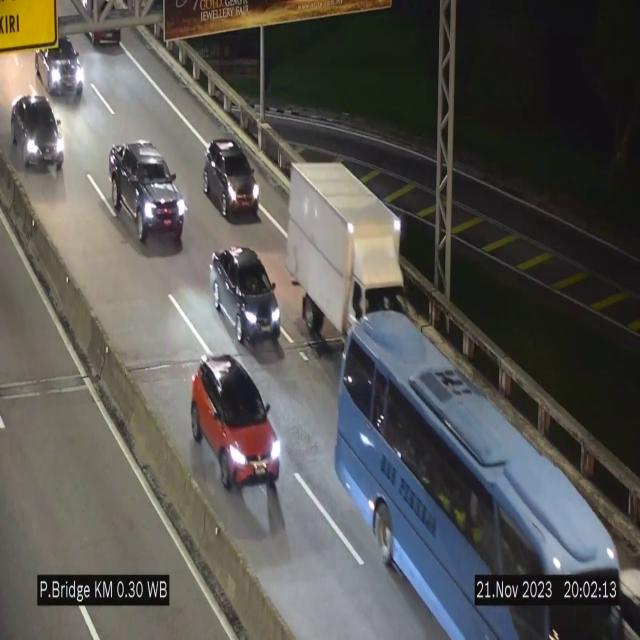Bus: (332, 304, 625, 640)
Car: (190, 352, 282, 492), (109, 140, 185, 249), (210, 238, 282, 348), (204, 135, 262, 226), (8, 97, 67, 175), (32, 34, 86, 98)
Truck: (289, 155, 407, 359)
